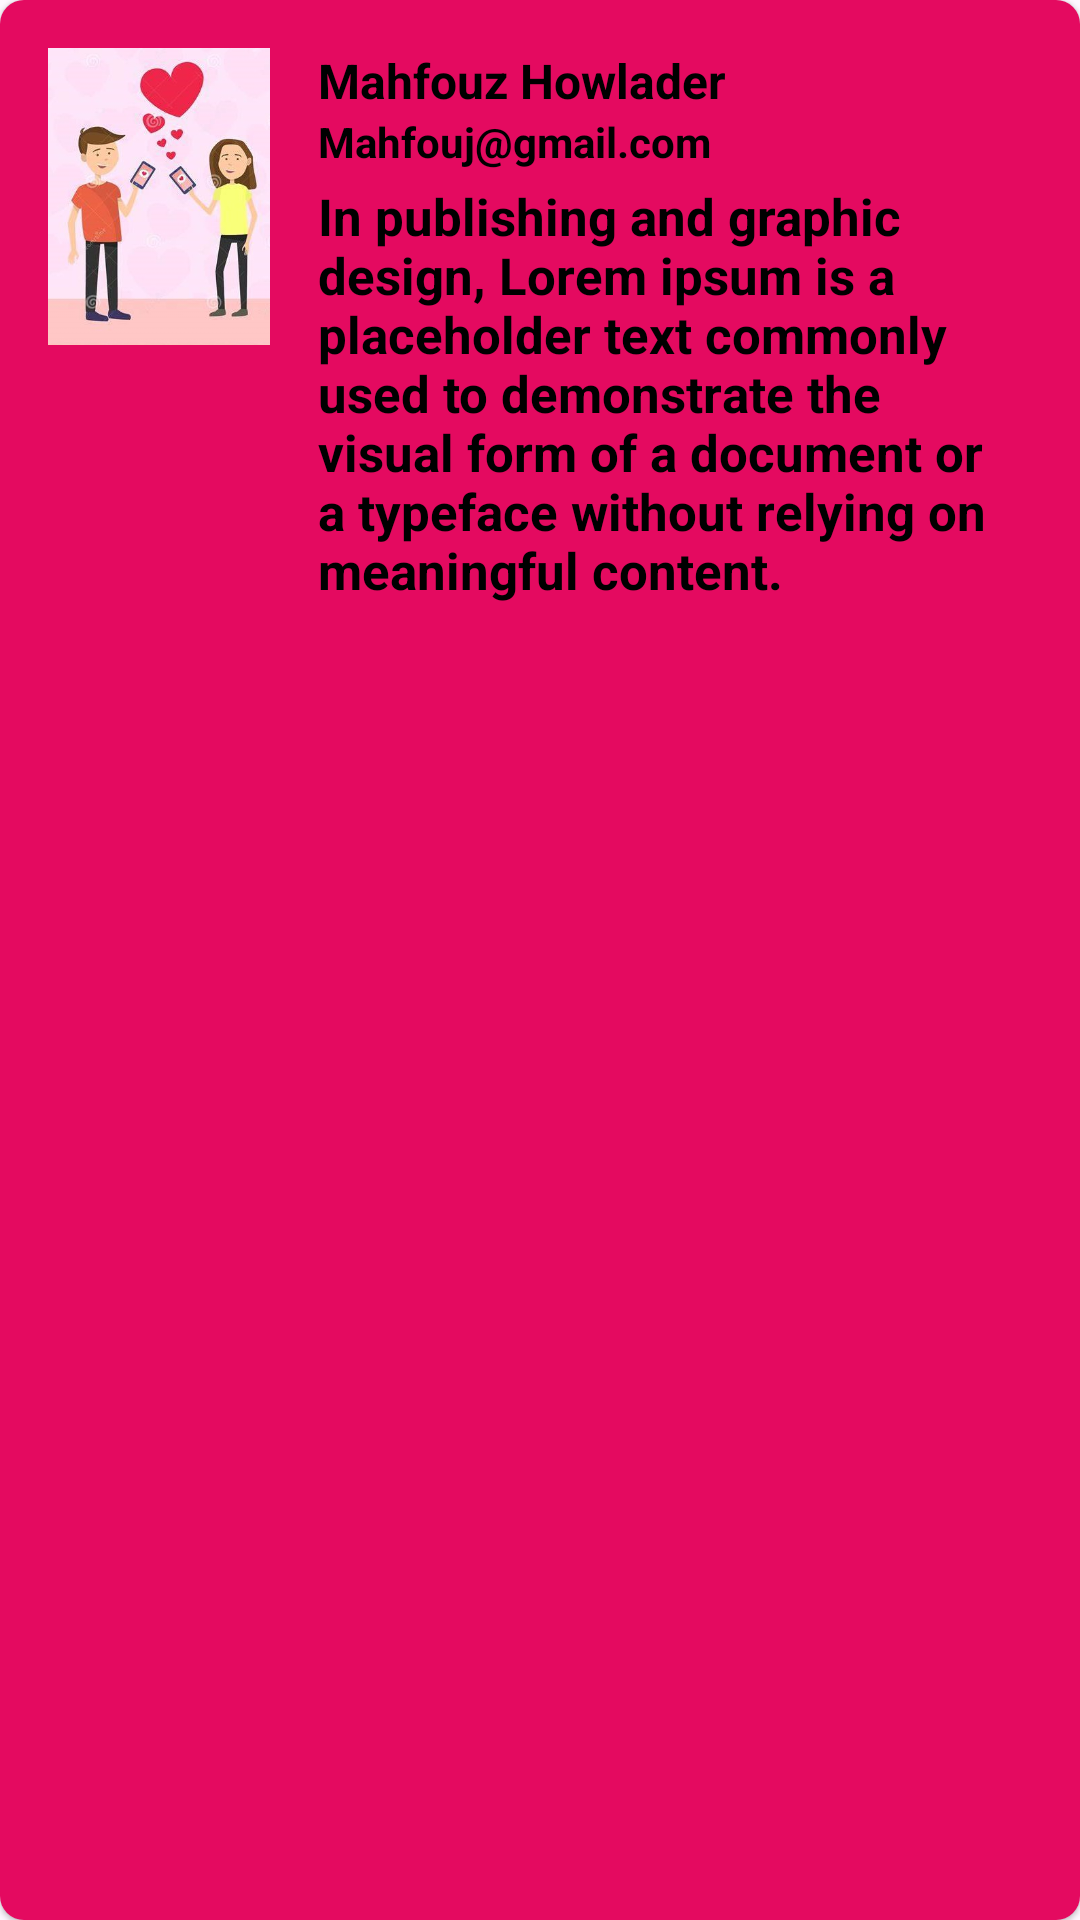

Icon bounding boxes for this 1080x1920 phone screenshot, format (left=x1, top=y1, right=x2, bottom=y2):
dating: (left=48, top=48, right=270, bottom=345)
